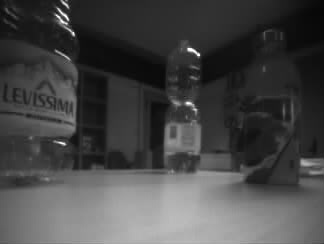Bottle: (1, 1, 75, 186), (242, 29, 298, 184), (165, 39, 201, 173)
